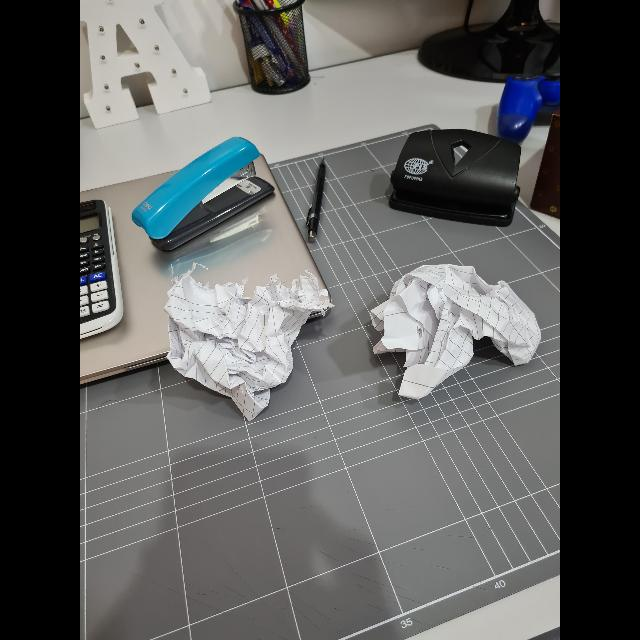trash: (162, 274, 330, 416), (364, 264, 538, 401)
